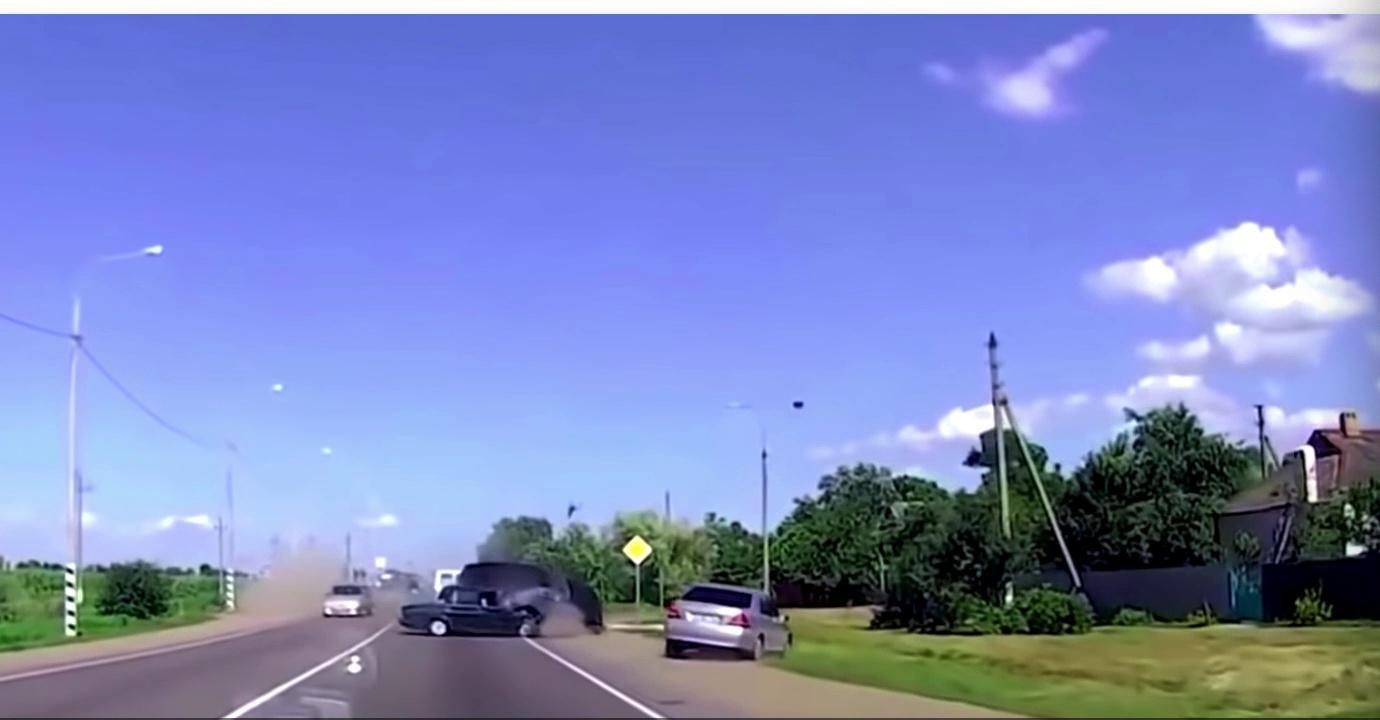car-accident: (396, 559, 603, 646)
